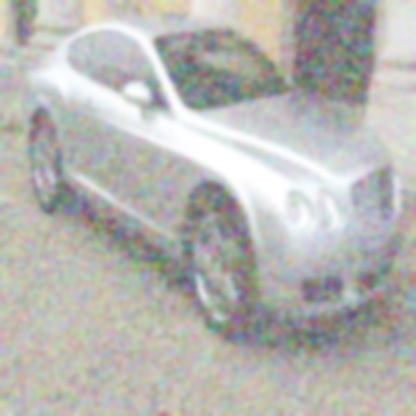Vehicle: (24, 14, 407, 340)
